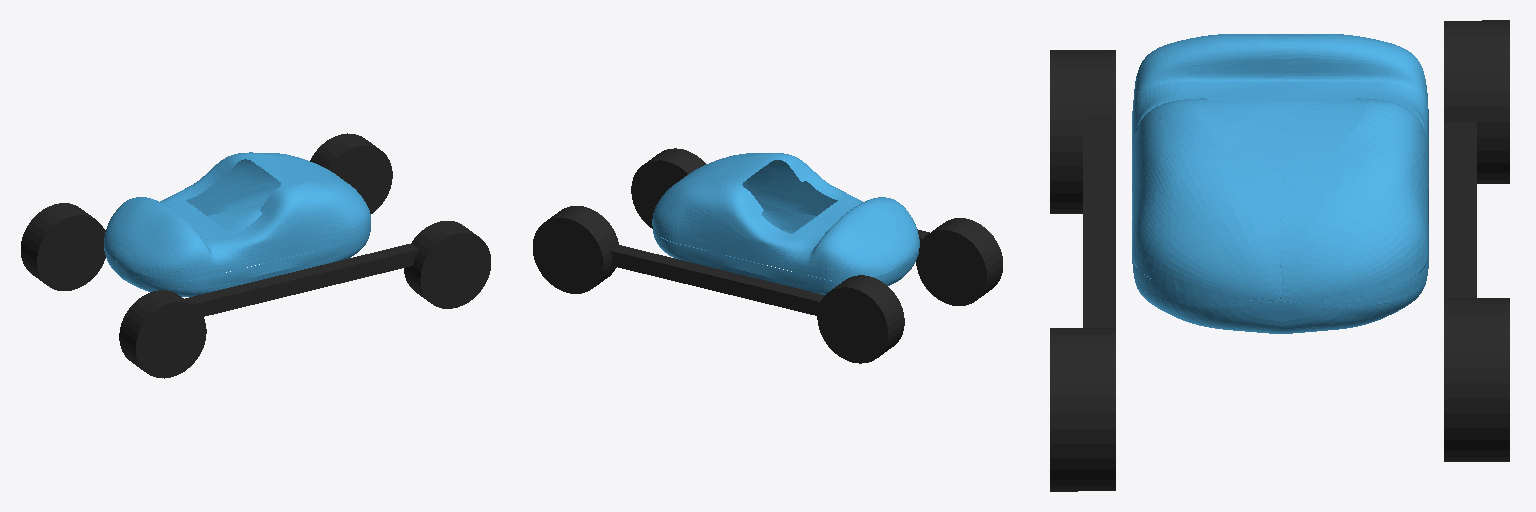
The robot description file, URDF, robot "scarab":
<?xml version="1.0"?>
<robot name="scarab" xmlns:xacro="http://www.ros.org/wiki/xacro">
  <link name="base_link_fake">
  </link>

    <joint name="fake_base_link_joint" type="fixed">
      <origin xyz="0 0 0" rpy="0 0 0" />
      <parent link="base_link_fake"/>
      <child link="base_link"/>
    </joint>

  <link name="base_link">
      <inertial>
        <!-- TODO: [author] GO BACK AND EDIT ALL THESE VALUES USING THE SOLIDWORKS MODEL -->
        <mass value="7.0"/>
        <origin xyz="0 0 0" rpy="0 0 0" />
        <inertia ixx="0.0" ixy="0.0" ixz="0.0" iyy="0.0" iyz="0.0" izz="0.0"/>
      </inertial>
      <visual>
        <origin xyz="0 0 0" rpy="0 0 0" />
        <geometry>
          <mesh filename="package://scarab_description/meshes/shell4.dae"/>
        </geometry>
      </visual>
      <collision name="body_collision">
        <origin xyz="0 0 0" rpy="0 0 0" />
        <geometry>
          <mesh filename="package://scarab_description/meshes/shell4.dae"/>
        </geometry>
      </collision>
    </link>

    <joint name="br_arm_joint" type="prismatic">
      <origin xyz="0 -0.65 0" rpy="0 0 0" />
      <axis
        xyz="1 0 0" />
      <limit
        effort="100"
        lower="-1"
        upper="1"
        velocity="2" />
      <parent link="base_link"/>
      <child link="br_arm_link"/>
    </joint>


    <link name="br_arm_link">
      <inertial>
        <mass value="1"/>
        <inertia ixx="0" ixy="0" ixz="0" iyy="100" iyz="0" izz="100" />
        <origin/>
      </inertial>
      <visual>
        <origin xyz="0 0 0" rpy="0 0 0" />
        <geometry>
          <!--mesh filename="package://scarab_description/meshes/rocker.dae" /-->
          <box size="1 0.1 0.1" />
        </geometry>
        <material name="gray">
          <color rgba=".2 .2 .2 1" />
        </material>
      </visual>

      <collision>
        <origin xyz="0 0 0" rpy="0 0 0" />
        <geometry>
          <!--mesh filename="package://scarab_description/meshes/rocker.dae" /-->
          <box size="0.1 1 0.1" />
        </geometry>
      </collision>
    </link>

    <joint name="bl_arm_joint" type="prismatic">
      <origin xyz="0 0.45 0" rpy="0 0 0" />
      <axis
        xyz="1 0 0" />
      <limit
        effort="100"
        lower="-1"
        upper="1"
        velocity="2" />
      <parent link="base_link"/>
      <child link="bl_arm_link"/>
    </joint>


    <link name="bl_arm_link">
      <inertial>
        <mass value="1"/>
        <inertia ixx="0" ixy="0" ixz="0" iyy="100" iyz="0" izz="100" />
        <origin/>
      </inertial>
      <visual>
        <origin xyz="0 0 0" rpy="0 0 0" />
        <geometry>
          <!--mesh filename="package://scarab_description/meshes/rocker.dae" /-->
          <box size="1 0.1 0.1" />
          <!--cylinder radius="0.01" length=".5" /-->
        </geometry>
        <material name="gray">
          <color rgba=".2 .2 .2 1" />
        </material>
      </visual>

      <collision>
        <origin xyz="0 0 0" rpy="0 0 0" />
        <geometry>
          <!--mesh filename="package://scarab_description/meshes/rocker.dae" /-->
          <box size="1 0.1 0.1" />
        </geometry>
      </collision>
    </link>

    <joint name="fr_arm_joint" type="prismatic">
      <origin xyz="1 -0.65 0" rpy="0 0 0" />
      <axis
        xyz="1 0 0" />
      <limit
        effort="100"
        lower="-1"
        upper="1"
        velocity="2" />
      <parent link="base_link"/>
      <child link="fr_arm_link"/>
    </joint>


    <link name="fr_arm_link">
      <inertial>
        <mass value="1"/>
        <inertia ixx="0" ixy="0" ixz="0" iyy="100" iyz="0" izz="100" />
        <origin/>
      </inertial>
      <visual>
        <origin xyz="0 0 0" rpy="0 0 0" />
        <geometry>
          <!--mesh filename="package://scarab_description/meshes/rocker.dae" /-->
          <box size="1 0.1 0.1" />
        </geometry>
        <material name="gray">
          <color rgba=".2 .2 .2 1" />
        </material>
      </visual>

      <collision>
        <origin xyz="0 0 0" rpy="0 0 0" />
        <geometry>
          <!--mesh filename="package://scarab_description/meshes/rocker.dae" /-->
          <box size="1 0.1 0.1" />
        </geometry>
      </collision>
    </link>

    <joint name="fl_arm_joint" type="prismatic">
      <origin xyz="1 0.45 0" rpy="0 0 0" />
      <axis
        xyz="1 0 0" />
      <limit
        effort="100"
        lower="-1"
        upper="1"
        velocity="2" />
      <parent link="base_link"/>
      <child link="fl_arm_link"/>
    </joint>


    <link name="fl_arm_link">
      <inertial>
        <mass value="1"/>
        <inertia ixx="0" ixy="0" ixz="0" iyy="100" iyz="0" izz="100" />
        <origin/>
      </inertial>
      <visual>
        <origin xyz="0 0 0" rpy="0 0 0" />
        <geometry>
          <!--mesh filename="package://scarab_description/meshes/rocker.dae" /-->
          <box size="1 0.1 0.1" />
        </geometry>
        <material name="gray">
          <color rgba=".2 .2 .2 1" />
        </material>
      </visual>

      <collision>
        <origin xyz="0 0 0" rpy="0 0 0" />
        <geometry>
          <!--mesh filename="package://scarab_description/meshes/rocker.dae" /-->
          <box size="1 0.1 0.1" />
        </geometry>
      </collision>
    </link>

    <joint name="fl_wheel_joint" type="continuous">
      <origin xyz="0.5 0.05 0" rpy="-1.57 0 0" />
      <axis
        xyz="0 0 1" />
      <limit
        effort="0"
        velocity="5" />
      <parent link="fl_arm_link"/>
      <child link="fl_wheel_link"/>
    </joint>


    <link name="fl_wheel_link">
      <inertial>
        <mass value="2"/>
        <inertia ixx="0" ixy="0" ixz="0" iyy="100" iyz="0" izz="100" />
        <origin/>
      </inertial>
      <visual>
        <origin xyz="0 0 0" rpy="0 0 0" />
        <geometry>
          <cylinder radius="0.25" length="0.2"/>
          <!--mesh filename="package://scarab_description/meshes/wheel.dae" /-->
        </geometry>
        <material name="gray">
          <color rgba=".2 .2 .2 1" />
        </material>
      </visual>
      <collision>
        <origin xyz="0 0 0" rpy="0 0 0" />
        <geometry>
          <cylinder radius="0.25" length="0.2"/>
          <!--mesh filename="package://scarab_description/meshes/wheel.dae" /-->
        </geometry>
      </collision>
    </link>

    <joint name="bl_wheel_joint" type="continuous">
      <origin xyz="-0.5 0.05 0" rpy="-1.57 0 0" />
      <axis
        xyz="0 0 1" />
      <limit
        effort="0"
        velocity="5" />
      <parent link="bl_arm_link"/>
      <child link="bl_wheel_link"/>
    </joint>


    <link name="bl_wheel_link">
      <inertial>
        <mass value="1"/>
        <inertia ixx="0" ixy="0" ixz="0" iyy="100" iyz="0" izz="100" />
        <origin/>
      </inertial>
      <visual>
        <origin xyz="0 0 0" rpy="0 0 0" />
        <geometry>
          <cylinder radius="0.25" length="0.2"/>
          <!--mesh filename="package://scarab_description/meshes/wheel.dae" /-->
        </geometry>
        <material name="gray">
          <color rgba=".2 .2 .2 1" />
        </material>
      </visual>

      <collision>
        <origin xyz="0 0 0" rpy="0 0 0" />
        <geometry>
          <cylinder radius="0.25" length="0.2"/>
          <!--mesh filename="package://scarab_description/meshes/wheel.dae" /-->
        </geometry>
      </collision>
    </link>

    <joint name="fr_wheel_joint" type="continuous">
      <origin xyz="0.5 -0.05 -0.1" rpy="-1.57 0 0" />
      <axis
        xyz="0 0 1" />
      <limit
        effort="0"
        velocity="5" />
      <parent link="fr_arm_link"/>
      <child link="fr_wheel_link"/>
    </joint>


    <link name="fr_wheel_link">
      <inertial>
        <mass value="2"/>
        <inertia ixx="0" ixy="0" ixz="0" iyy="100" iyz="0" izz="100" />
        <origin/>
      </inertial>
      <visual>
        <origin xyz="0 0 0" rpy="0 0 0" />
        <geometry>
          <cylinder radius="0.25" length="0.2"/>
          <!--mesh filename="package://scarab_description/meshes/wheel.dae" /-->
        </geometry>
        <material name="gray">
          <color rgba=".2 .2 .2 1" />
        </material>
      </visual>
      <collision>
        <origin xyz="0 0 0" rpy="0 0 0" />
        <geometry>
          <cylinder radius="0.25" length="0.2"/>
          <!--mesh filename="package://scarab_description/meshes/wheel.dae" /-->
        </geometry>
      </collision>
    </link>

    <joint name="br_wheel_joint" type="continuous">
      <origin xyz="-0.5 -0.05 -0.1" rpy="-1.57 0 0" />
      <axis
        xyz="0 0 1" />
      <limit
        effort="0"
        velocity="5" />
      <parent link="br_arm_link"/>
      <child link="br_wheel_link"/>
    </joint>


    <link name="br_wheel_link">
      <inertial>
        <mass value="1"/>
        <inertia ixx="0" ixy="0" ixz="0" iyy="100" iyz="0" izz="100" />
        <origin/>
      </inertial>
      <visual>
        <origin xyz="0 0 0" rpy="0 0 0" />
        <geometry>
          <cylinder radius="0.25" length="0.2"/>
          <!--mesh filename="package://scarab_description/meshes/wheel.dae" /-->
        </geometry>
        <material name="gray">
          <color rgba=".2 .2 .2 1" />
        </material>
      </visual>

      <collision>
        <origin xyz="0 0 0" rpy="0 0 0" />
        <geometry>
          <cylinder radius="0.25" length="0.2"/>
          <!--mesh filename="package://scarab_description/meshes/wheel.dae" /-->
        </geometry>
      </collision>
    </link>

    <transmission name="bl_arm_trans">
      <type>transmission_interface/SimpleTransmission</type>
      <joint name="bl_arm_joint">
        <hardwareInterface>hardware_interface/EffortJointInterface</hardwareInterface>
      </joint>
      <actuator name="bl_arm_motor">
        <mechanicalReduction>1</mechanicalReduction>
        <hardwareInterface>hardware_interface/EffortJointInterface</hardwareInterface>
      </actuator>
    </transmission>

    <transmission name="fr_arm_trans">
      <type>transmission_interface/SimpleTransmission</type>
      <joint name="fr_arm_joint">
        <hardwareInterface>hardware_interface/EffortJointInterface</hardwareInterface>
      </joint>
      <actuator name="fr_arm_motor">
        <mechanicalReduction>1</mechanicalReduction>
        <hardwareInterface>hardware_interface/EffortJointInterface</hardwareInterface>
      </actuator>
    </transmission>

    <transmission name="fl_arm_trans">
      <type>transmission_interface/SimpleTransmission</type>
      <joint name="fl_arm_joint">
        <hardwareInterface>hardware_interface/EffortJointInterface</hardwareInterface>
      </joint>
      <actuator name="fl_arm_motor">
        <mechanicalReduction>1</mechanicalReduction>
        <hardwareInterface>hardware_interface/EffortJointInterface</hardwareInterface>
      </actuator>
    </transmission>

    <transmission name="br_arm_trans">
      <type>transmission_interface/SimpleTransmission</type>
      <joint name="br_arm_joint">
        <hardwareInterface>hardware_interface/EffortJointInterface</hardwareInterface>
      </joint>
      <actuator name="br_arm_motor">
        <mechanicalReduction>1</mechanicalReduction>
        <hardwareInterface>hardware_interface/EffortJointInterface</hardwareInterface>
      </actuator>
    </transmission>

    <!-- <transmission name="br_wheel_trans">
      <type>transmission_interface/SimpleTransmission</type>
      <joint name="br_wheel_joint">
        <hardwareInterface>hardware_interface/EffortJointInterface</hardwareInterface>
      </joint>
      <actuator name="br_wheel_motor">
        <mechanicalReduction>1</mechanicalReduction>
        <hardwareInterface>hardware_interface/EffortJointInterface</hardwareInterface>
      </actuator>
    </transmission>

    <transmission name="bl_wheel_trans">
      <type>transmission_interface/SimpleTransmission</type>
      <joint name="bl_wheel_joint">
        <hardwareInterface>hardware_interface/EffortJointInterface</hardwareInterface>
      </joint>
      <actuator name="bl_wheel_motor">
        <mechanicalReduction>1</mechanicalReduction>
        <hardwareInterface>hardware_interface/EffortJointInterface</hardwareInterface>
      </actuator>
    </transmission>

    <transmission name="fr_wheel_trans">
      <type>transmission_interface/SimpleTransmission</type>
      <joint name="fr_wheel_joint">
        <hardwareInterface>hardware_interface/EffortJointInterface</hardwareInterface>
      </joint>
      <actuator name="fr_wheel_motor">
        <mechanicalReduction>1</mechanicalReduction>
        <hardwareInterface>hardware_interface/EffortJointInterface</hardwareInterface>
      </actuator>
    </transmission>

    <transmission name="fl_wheel_trans">
      <type>transmission_interface/SimpleTransmission</type>
      <joint name="fl_wheel_joint">
        <hardwareInterface>hardware_interface/EffortJointInterface</hardwareInterface>
      </joint>
      <actuator name="fl_wheel_motor">
        <mechanicalReduction>1</mechanicalReduction>
        <hardwareInterface>hardware_interface/EffortJointInterface</hardwareInterface>
      </actuator>
    </transmission> -->

    <gazebo>
      <plugin name="gazebo_ros_control" filename="libgazebo_ros_control.so">
        <robotNamespace>/scarab</robotNamespace>
        <!--robotSimType>gazebo_ros_control/DefaultRobotHWSim</robotSimType-->
      </plugin>
    </gazebo>

    <!-- [author] UPDATE THESE VALUES -->
    <!-- <gazebo>
      <plugin name="differential_drive_controller" filename="libgazebo_ros_diff_drive.so">
        <alwaysOn>true</alwaysOn>
        <legacyMode>false</legacyMode>
        <updateRate>100</updateRate>
        <robotNamespace>/scarab</robotNamespace>
        <leftJoint>fl_wheel_joint</leftJoint>
        <rightJoint>fr_wheel_joint</rightJoint>
        <wheelSeparation>1.2</wheelSeparation>
        <wheelDiameter>0.5</wheelDiameter>
        <torque>100</torque>
        <commandTopic>frt_cmd_vel</commandTopic>
        <odometryTopic>odom_diffdrive</odometryTopic>
        <odometryFrame>odom</odometryFrame>
        <odometrySource>world</odometrySource>
        <publishTf>1</publishTf>
        <rosDebugLevel>na</rosDebugLevel>
        <wheelAcceleration>0</wheelAcceleration>
        <wheelTorque>5</wheelTorque>
        <robotBaseFrame>base_link</robotBaseFrame>
        <publishWheelTF>false</publishWheelTF>
        <publishWheelJointState>false</publishWheelJointState>
      </plugin>
    </gazebo>

    <gazebo>
      <plugin name="differential_drive_controller" filename="libgazebo_ros_diff_drive.so">
        <alwaysOn>true</alwaysOn>
        <legacyMode>false</legacyMode>
        <updateRate>100</updateRate>
        <robotNamespace>/scarab</robotNamespace>
        <leftJoint>bl_wheel_joint</leftJoint>
        <rightJoint>br_wheel_joint</rightJoint>
        <wheelSeparation>1.2</wheelSeparation>
        <wheelDiameter>0.5</wheelDiameter>
        <torque>100</torque>
        <commandTopic>back_cmd_vel</commandTopic>
        <odometryTopic>odom_diffdrive</odometryTopic>
        <odometryFrame>odom</odometryFrame>
        <odometrySource>world</odometrySource>
        <publishTf>1</publishTf>
        <rosDebugLevel>na</rosDebugLevel>
        <wheelAcceleration>0</wheelAcceleration>
        <wheelTorque>5</wheelTorque>
        <robotBaseFrame>base_link</robotBaseFrame>
        <publishWheelTF>false</publishWheelTF>
        <publishWheelJointState>false</publishWheelJointState>
      </plugin>
    </gazebo> -->

    <gazebo>
      <plugin name="skid_steer_drive_controller" filename="libgazebo_ros_skid_steer_drive.so">
        <updateRate>100.0</updateRate>
        <robotNamespace>/scarab</robotNamespace>
        <leftFrontJoint>fl_wheel_joint</leftFrontJoint>
        <rightFrontJoint>fr_wheel_joint</rightFrontJoint>
        <leftRearJoint>bl_wheel_joint</leftRearJoint>
        <rightRearJoint>br_wheel_joint</rightRearJoint>
        <wheelSeparation>1.2</wheelSeparation>
        <wheelDiameter>0.5</wheelDiameter>
        <robotBaseFrame>base_link</robotBaseFrame>
        <torque>20</torque>
        <commandTopic>cmd_vel</commandTopic>
        <broadcastTF>false</broadcastTF>
        <odometryTopic>odom_diffdrive</odometryTopic>
        <odometryFrame>odom</odometryFrame>
        <covariance_x>0.000</covariance_x>
        <covariance_y>0.000</covariance_y>
        <covariance_yaw>0.00</covariance_yaw>
      </plugin>
    </gazebo>

</robot>

--- Facts derived from the render (not from the file) ---
3 views of the same robot in one strip: view 1: azimuth 30°, elevation 25°; view 2: azimuth 150°, elevation 25°; view 3: azimuth 270°, elevation 25° (orthographic).
Model scarab with 10 links and 9 joints (4 continuous, 4 prismatic, 1 fixed), rooted at base_link_fake, posed all joints at 0.
Visible links, largest first — view 1: base_link, br_wheel_link, fr_wheel_link, bl_wheel_link, fl_wheel_link, fr_arm_link, br_arm_link; view 2: base_link, bl_wheel_link, fl_wheel_link, br_wheel_link, fr_wheel_link, fl_arm_link, bl_arm_link, br_arm_link; view 3: base_link, fl_wheel_link, fr_wheel_link, bl_wheel_link, br_wheel_link, br_arm_link, bl_arm_link, fr_arm_link, fl_arm_link.
Boxes of the visible links, <box> form: base_link: <box>104,152,370,296</box>; br_wheel_link: <box>119,290,206,378</box>; fr_wheel_link: <box>404,221,490,308</box>; bl_wheel_link: <box>21,203,105,290</box>; fl_wheel_link: <box>310,133,392,213</box>; fr_arm_link: <box>298,244,418,291</box>; br_arm_link: <box>185,271,304,316</box>; base_link: <box>652,153,919,294</box>; bl_wheel_link: <box>817,275,904,363</box>; fl_wheel_link: <box>533,206,618,293</box>; br_wheel_link: <box>916,218,1002,305</box>; fr_wheel_link: <box>631,148,705,228</box>; fl_arm_link: <box>611,245,725,291</box>; bl_arm_link: <box>719,271,824,315</box>; br_arm_link: <box>917,229,950,259</box>; base_link: <box>1132,34,1428,333</box>; fl_wheel_link: <box>1444,298,1509,461</box>; fr_wheel_link: <box>1050,328,1115,491</box>; bl_wheel_link: <box>1444,20,1509,183</box>; br_wheel_link: <box>1050,50,1115,213</box>; br_arm_link: <box>1083,115,1115,225</box>; bl_arm_link: <box>1444,122,1476,225</box>; fr_arm_link: <box>1083,226,1115,327</box>; fl_arm_link: <box>1444,226,1476,297</box>.
Bounding box of the posed robot: 2.5 × 1.4 × 0.8544 m (x, y, z).
Meshes: 1 distinct files referenced, 1 mesh visuals loaded (1 Collada DAE).